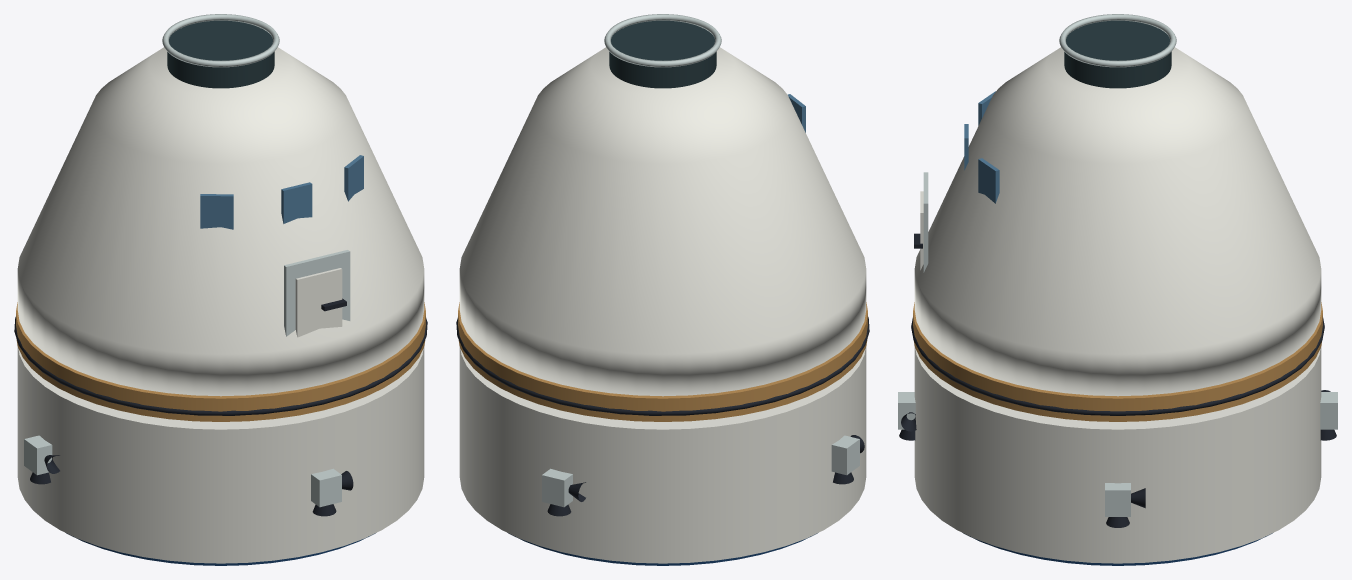
The model's file is starliner.glb.
The picture shows the model from 3 angles, left to right: view 1: azimuth 30°, elevation 25°; view 2: azimuth 150°, elevation 25°; view 3: azimuth 270°, elevation 25°; orthographic projection.
Visible parts, largest first — view 1: crew, service, heatshield, docking, propulsion; view 2: crew, service, heatshield, docking, propulsion; view 3: crew, service, heatshield, docking, propulsion.
Boxes of the visible parts, x1,y1,x2,y2 form: crew: (17,47,424,396); service: (17,347,424,565); heatshield: (14,302,427,421); docking: (162,14,279,88); propulsion: (24,435,353,516); crew: (459,47,866,396); service: (459,347,866,565); heatshield: (456,302,869,421); docking: (604,14,721,88); propulsion: (542,435,864,516); crew: (914,47,1321,396); service: (914,347,1321,565); heatshield: (911,302,1324,421); docking: (1059,14,1176,88); propulsion: (898,390,1337,527).
Bounding box in the file's own units: 2.38 × 2.68 × 2.38.
